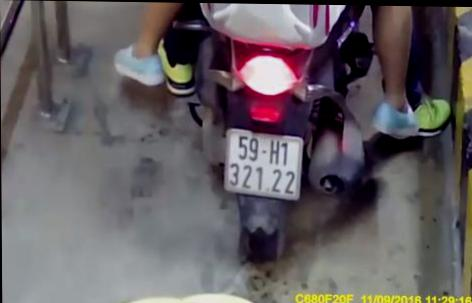License_Plate: (220, 125, 314, 211)
